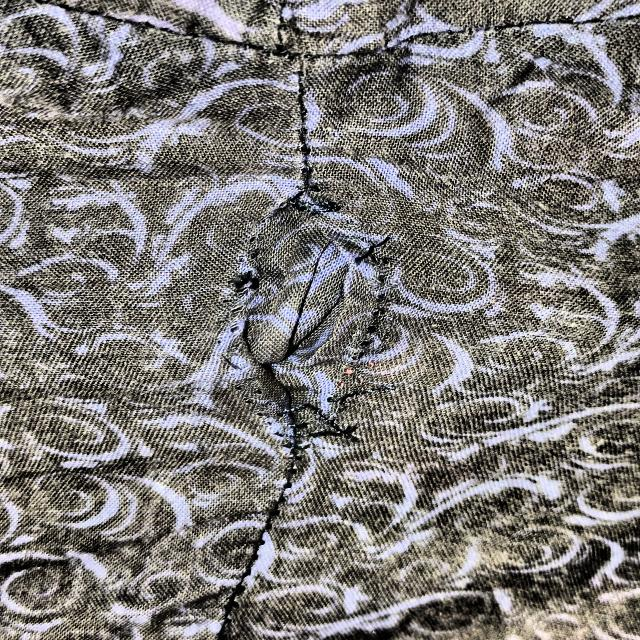seam: (207, 149, 439, 516)
